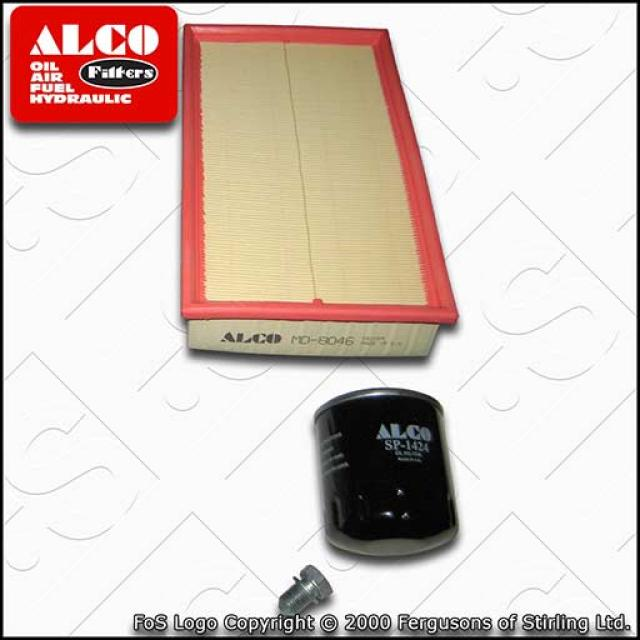air_filter: (178, 21, 460, 367)
oil_filter: (309, 384, 462, 559)
